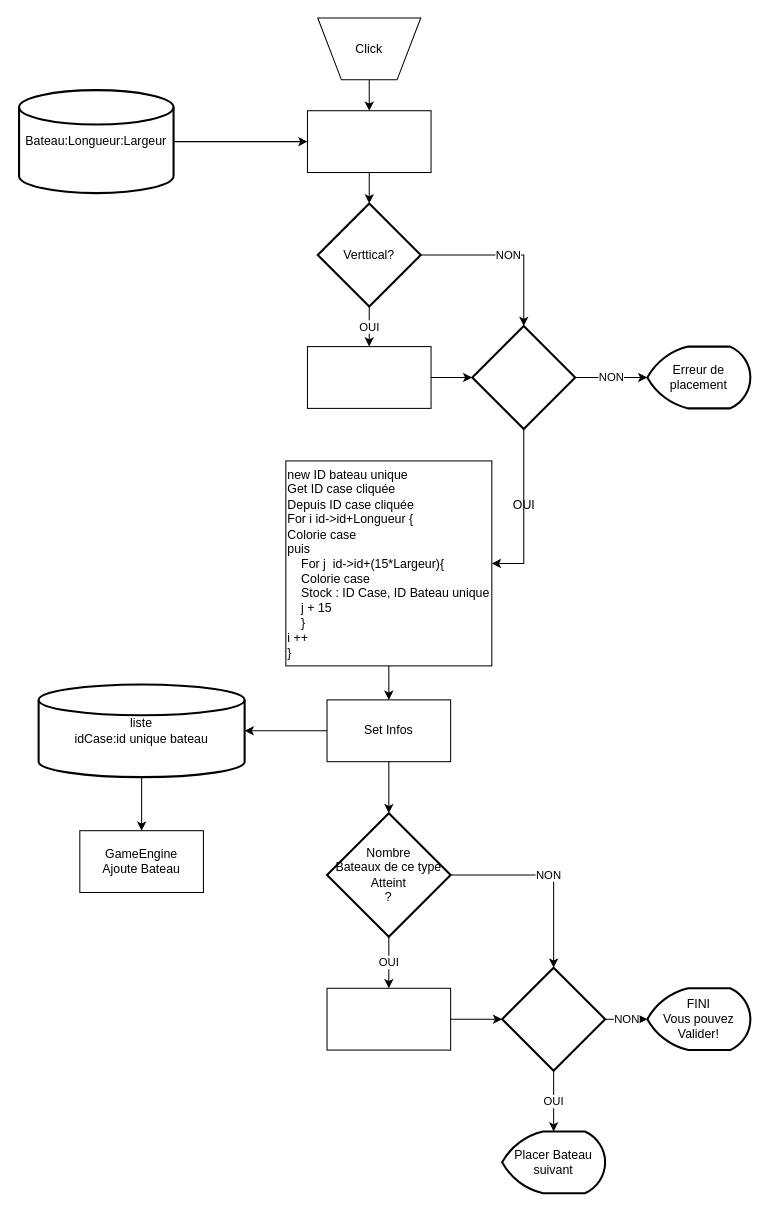
Some shapes in this 768 by 1212 pixel diagram are drawn without their labels. The centre of each missing label's shape, as x and y in pixels:
Dans la Grille?: pixel 523 377
Get Infos: pixel 368 141
Inverse Longueur et Largeur: pixel 368 377
Reste des bateaux à placer ?: pixel 553 1018
Supprime du menu deroulant: pixel 388 1018
